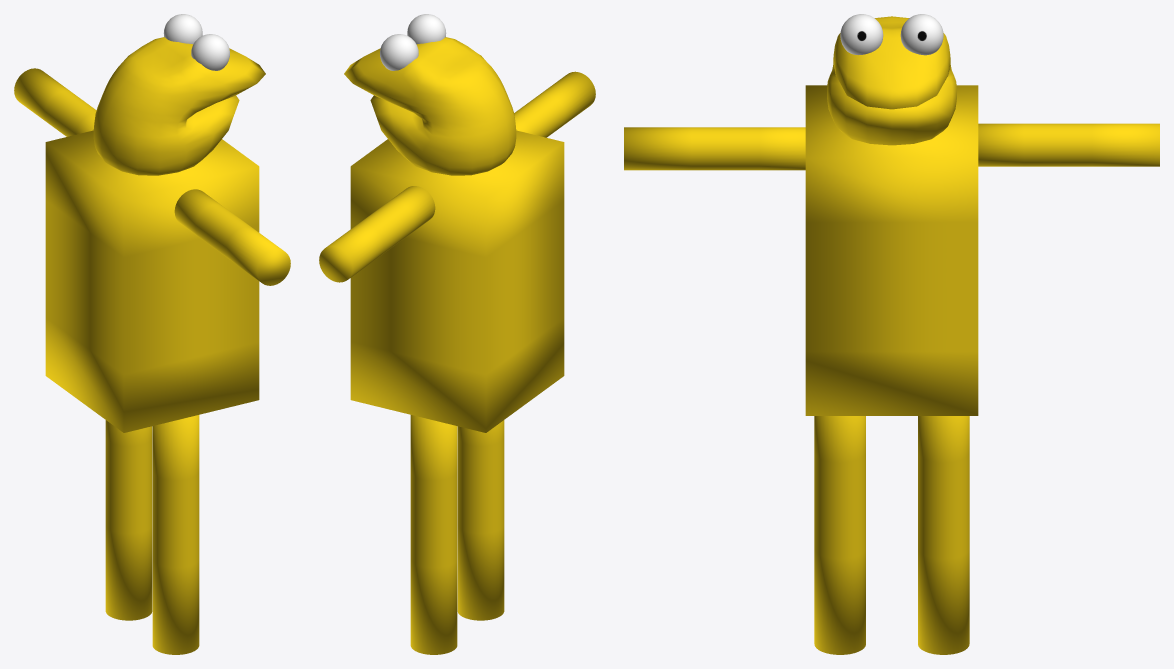
Rendered from graggler.glb.
The picture shows the model from 3 angles, left to right: view 1: azimuth 30°, elevation 25°; view 2: azimuth 150°, elevation 25°; view 3: azimuth 270°, elevation 25°; orthographic projection. The views are drawn at different scales.
Parts seen in each view (by area): view 1: Cube, Cube.001, Cylinder, Cylinder.001, Cylinder.002, Cylinder.003, Sphere.001, Sphere; view 2: Cube, Cube.001, Cylinder.001, Cylinder, Cylinder.003, Cylinder.002, Sphere, Sphere.001; view 3: Cube, Cylinder, Cylinder.001, Cube.001, Cylinder.002, Cylinder.003, Sphere, Sphere.001.
Part boxes in pixels (bbox=[...]): Cube: bbox=[45, 130, 259, 432]; Cube.001: bbox=[93, 37, 265, 175]; Cylinder: bbox=[152, 415, 199, 654]; Cylinder.001: bbox=[105, 420, 152, 620]; Cylinder.002: bbox=[174, 189, 290, 285]; Cylinder.003: bbox=[14, 68, 96, 136]; Sphere.001: bbox=[191, 34, 229, 70]; Sphere: bbox=[163, 14, 202, 44]; Cube: bbox=[350, 130, 564, 432]; Cube.001: bbox=[344, 37, 516, 175]; Cylinder.001: bbox=[410, 415, 457, 654]; Cylinder: bbox=[457, 420, 504, 620]; Cylinder.003: bbox=[319, 186, 435, 282]; Cylinder.002: bbox=[514, 71, 595, 137]; Sphere: bbox=[380, 34, 418, 70]; Sphere.001: bbox=[407, 14, 446, 44]; Cube: bbox=[805, 85, 978, 415]; Cylinder: bbox=[814, 416, 865, 654]; Cylinder.001: bbox=[918, 416, 969, 654]; Cube.001: bbox=[827, 16, 956, 145]; Cylinder.002: bbox=[624, 127, 805, 170]; Cylinder.003: bbox=[978, 123, 1159, 166]; Sphere: bbox=[900, 14, 943, 55]; Sphere.001: bbox=[840, 14, 883, 55].
Bounding box in the file's own units: 2.58 × 8.34 × 6.21.
Materials: 2 (1 with a texture image).
